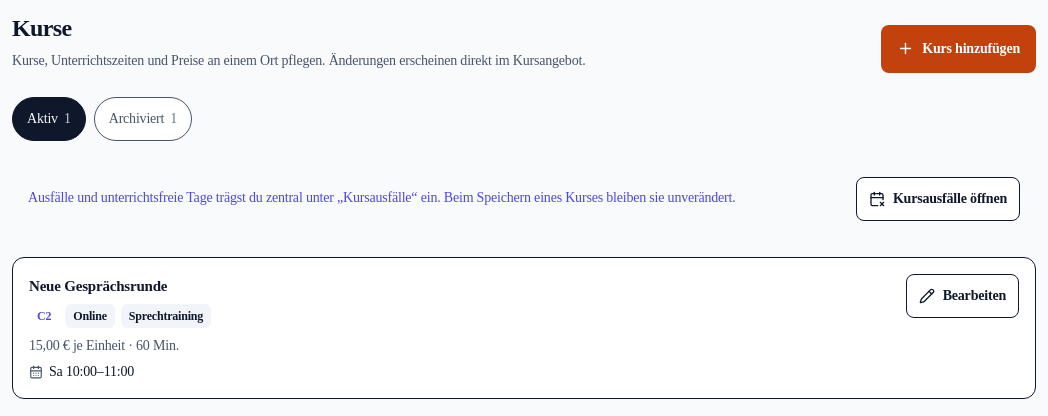
it: filters active and archived courses with pressed chips
This screenshot has width=1048, height=416.
Expected: the heading "Neue Gesprächsrunde" is shown, top-left (29, 278), bottom-right (167, 294)
Expected: the heading "Alter Kurs" is not shown
Click the button "Archiviert 1".
click(143, 119)  # box top-left (94, 97), bottom-right (192, 141)
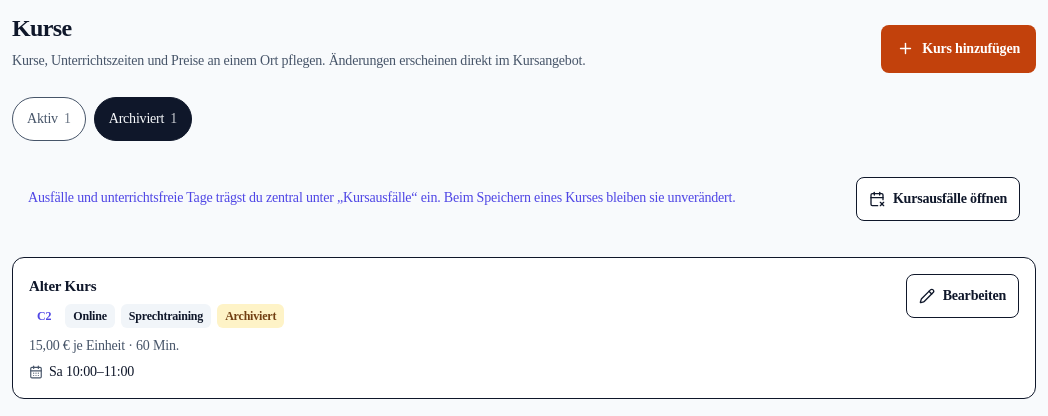
Result: the heading "Alter Kurs" is shown at top-left (29, 278), bottom-right (96, 294)
